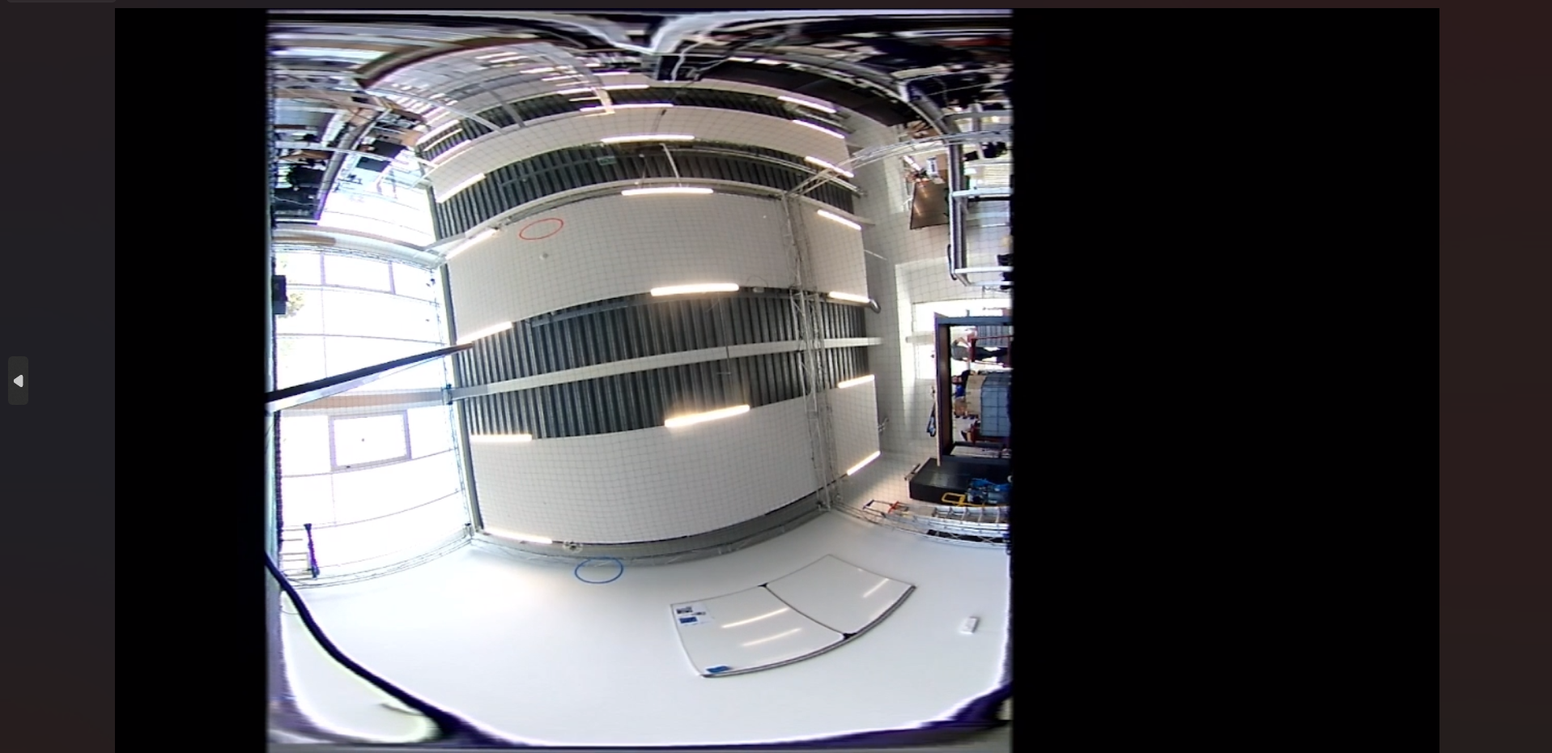Drone: (484, 221, 509, 240), (562, 538, 584, 555)
